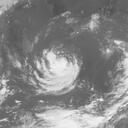cyclone: (31, 48, 83, 95)
